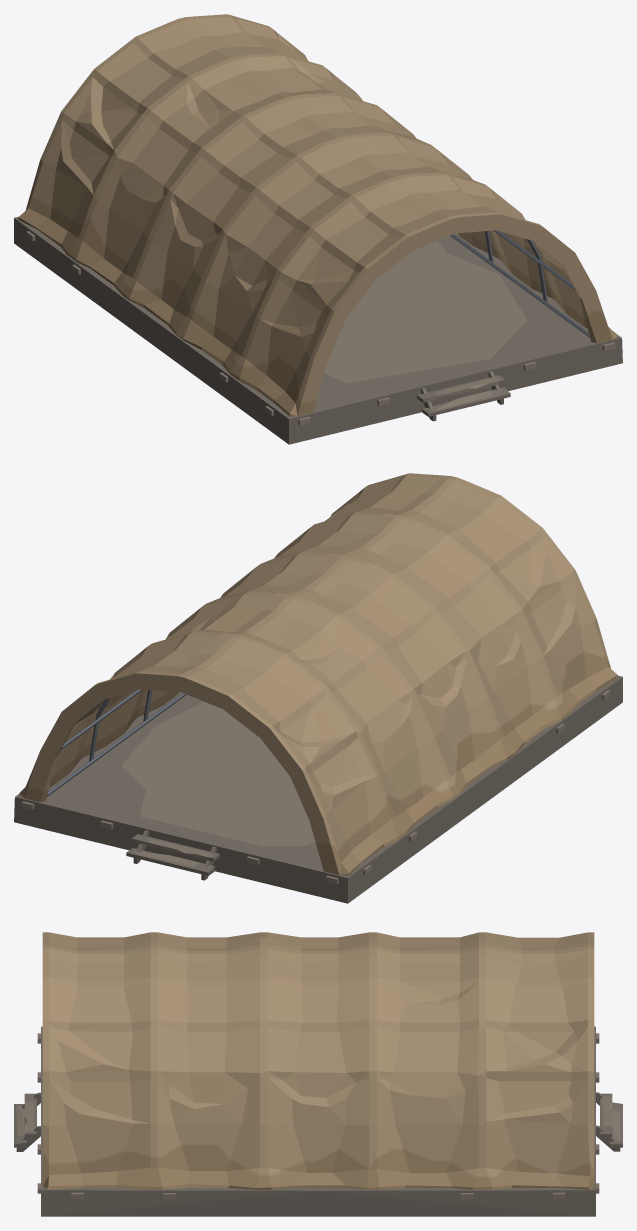
Rendered from SM_Bld_Tent_Open_01.fbx.
3 views of the same model, one above another, from view 1: azimuth 30°, elevation 25°; view 2: azimuth 150°, elevation 25°; view 3: azimuth 270°, elevation 25° (orthographic).
Visible parts, largest first — view 1: SM_Bld_Tent_Open_01; view 2: SM_Bld_Tent_Open_01; view 3: SM_Bld_Tent_Open_01.
Boxes of the visible parts, box(x1,y1,x2,y2) form: SM_Bld_Tent_Open_01: box(14, 14, 622, 444); SM_Bld_Tent_Open_01: box(14, 473, 622, 903); SM_Bld_Tent_Open_01: box(14, 932, 622, 1216).
Bounding box in the file's own units: 780 × 407 × 1203.
